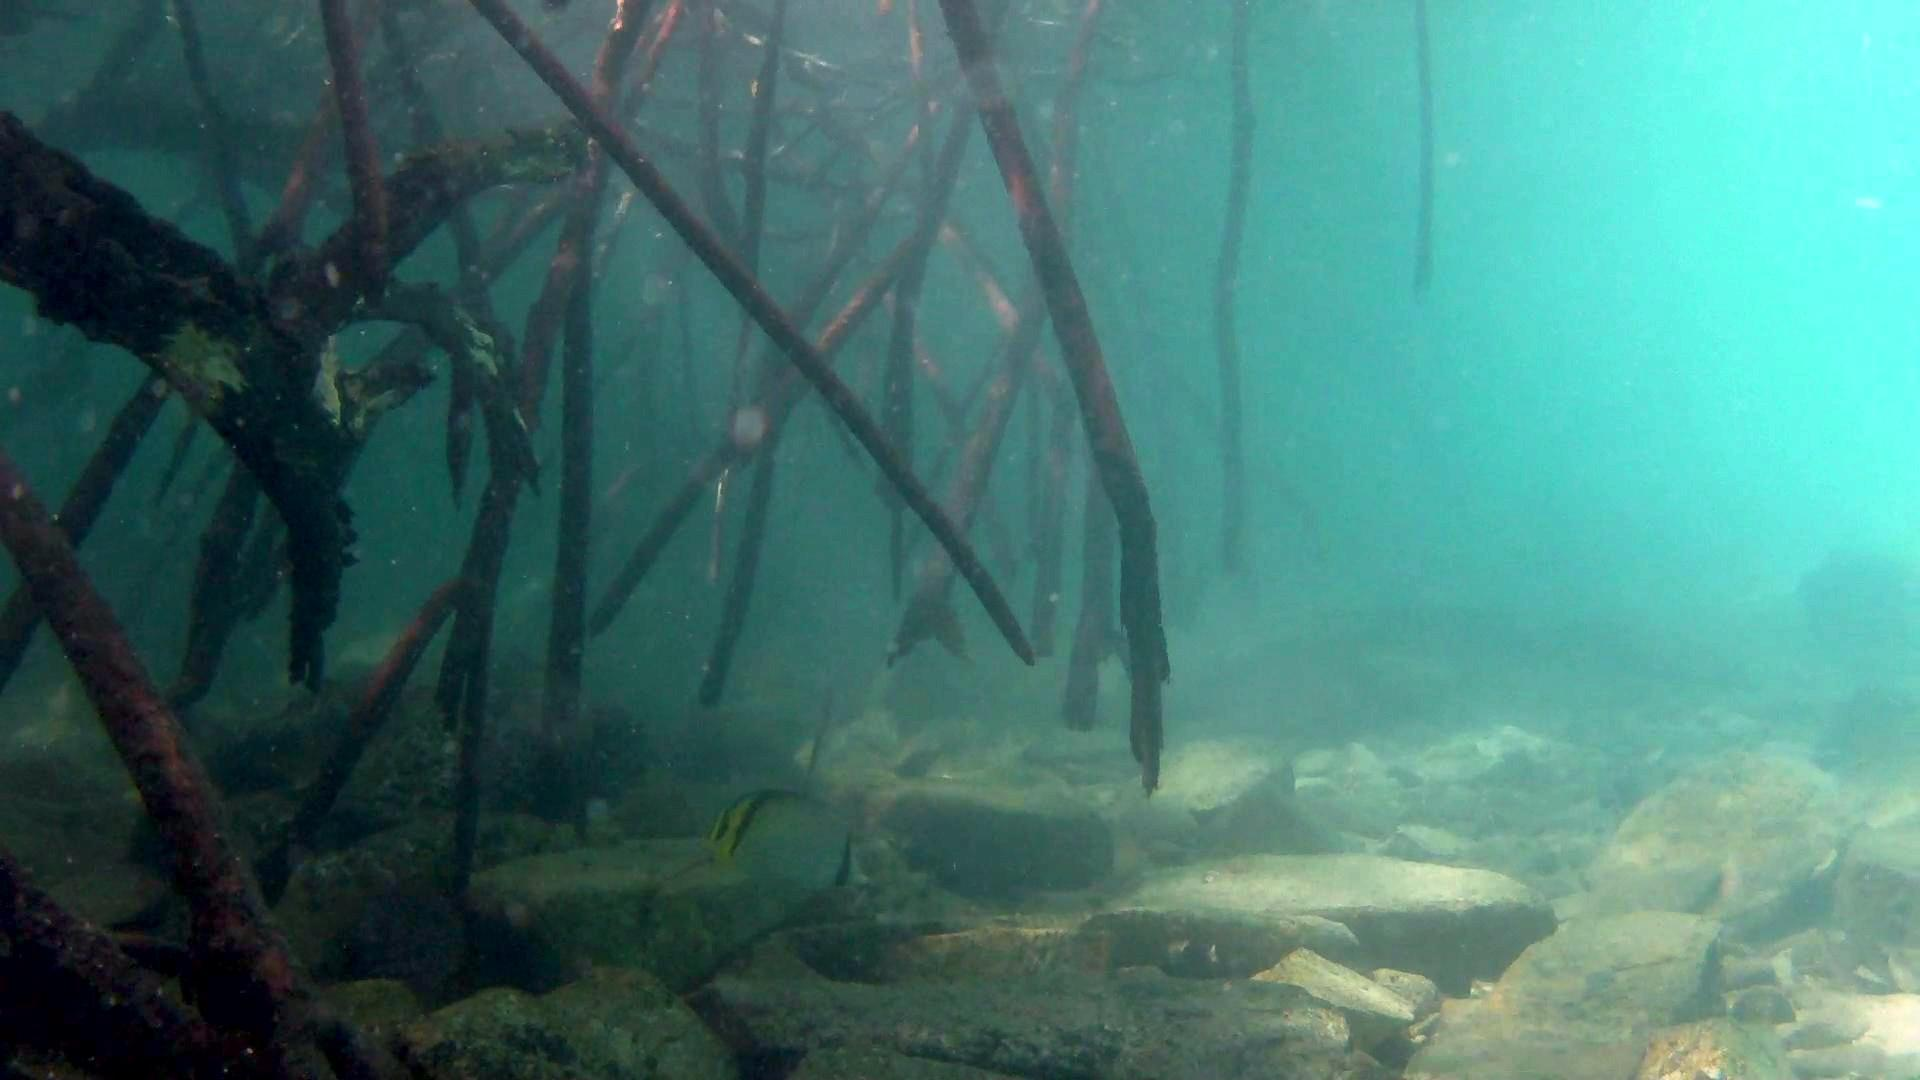chaetodon vagabundus: (704, 783, 872, 895)
